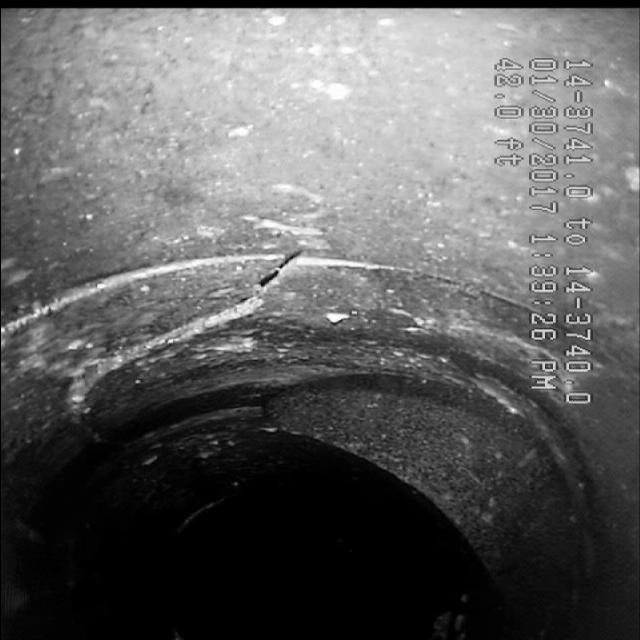Crack: (86, 242, 324, 378)
